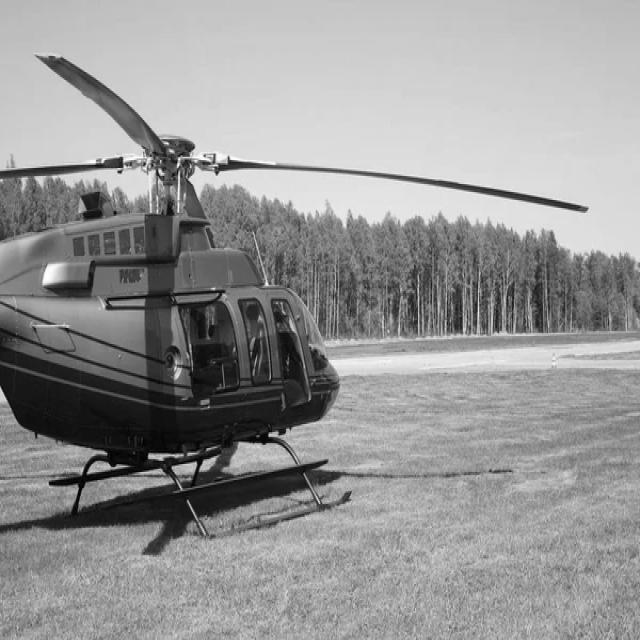Helicopter: (0, 53, 363, 539)
